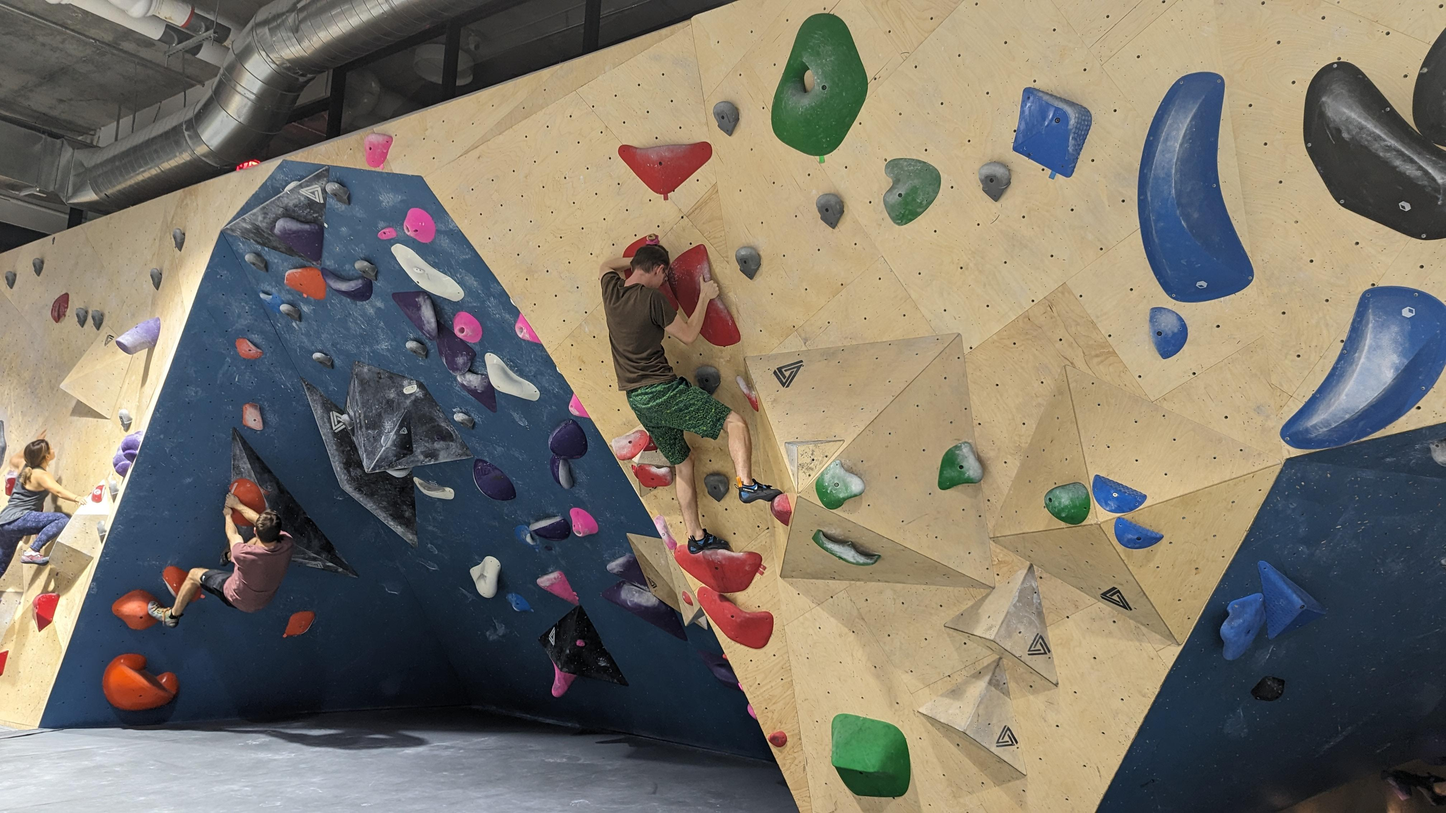black-hold: (1261, 49, 1446, 274), (1275, 263, 1446, 494), (1117, 68, 1258, 310), (758, 4, 890, 167), (999, 83, 1098, 180), (1238, 543, 1329, 641), (90, 642, 185, 731), (599, 572, 700, 643), (831, 713, 911, 798), (685, 584, 779, 653), (1203, 581, 1277, 668), (382, 239, 469, 311), (658, 242, 731, 321), (617, 140, 713, 196), (670, 543, 763, 597), (387, 275, 456, 344), (472, 349, 544, 414), (1412, 27, 1446, 148), (416, 318, 481, 381), (882, 158, 942, 226), (806, 456, 870, 519), (107, 579, 169, 641), (808, 525, 882, 575), (688, 294, 744, 357), (462, 454, 523, 511), (1084, 473, 1149, 523), (696, 639, 747, 701), (542, 414, 598, 470), (930, 439, 986, 492), (269, 214, 328, 263), (455, 364, 504, 422), (1041, 480, 1095, 531), (1107, 515, 1165, 560), (604, 551, 652, 605), (534, 562, 589, 609), (112, 315, 169, 359), (969, 153, 1018, 203), (225, 471, 275, 520), (1148, 305, 1190, 361), (466, 552, 512, 602), (316, 267, 376, 304), (532, 656, 577, 700), (807, 186, 851, 230), (398, 204, 443, 247), (608, 424, 655, 465), (24, 587, 61, 636), (282, 263, 329, 301), (705, 96, 748, 137), (446, 308, 489, 348), (356, 127, 395, 171), (729, 241, 769, 283), (279, 603, 318, 645), (507, 311, 543, 353), (527, 514, 573, 546), (253, 280, 291, 318), (688, 359, 726, 396), (409, 476, 457, 504), (698, 466, 734, 503), (153, 561, 189, 598), (734, 372, 764, 415), (229, 333, 265, 367), (568, 503, 600, 539), (547, 451, 575, 492), (1249, 673, 1286, 704), (651, 513, 680, 552), (511, 521, 544, 555), (767, 492, 796, 530), (620, 230, 652, 264), (321, 178, 357, 208), (117, 426, 144, 464), (502, 588, 534, 620), (562, 392, 592, 426), (107, 444, 137, 478), (637, 464, 673, 488), (351, 257, 383, 283), (239, 400, 264, 433), (243, 248, 271, 277), (48, 290, 71, 325), (226, 507, 254, 535), (402, 337, 431, 361), (765, 726, 791, 752), (277, 301, 306, 323), (113, 406, 137, 432), (451, 410, 478, 431), (146, 266, 167, 292), (339, 412, 359, 439), (0, 468, 18, 497), (310, 351, 337, 370), (1429, 438, 1446, 467), (89, 307, 106, 332), (29, 256, 48, 278), (89, 482, 107, 505), (107, 479, 122, 504), (74, 306, 90, 329), (95, 519, 109, 545), (377, 226, 398, 241), (641, 434, 658, 452), (680, 589, 695, 609), (173, 228, 185, 253), (189, 586, 204, 605), (745, 703, 759, 722), (0, 648, 9, 677), (3, 270, 16, 290), (282, 179, 300, 192), (402, 383, 419, 396), (257, 486, 271, 497), (631, 464, 638, 480), (508, 297, 517, 308), (576, 639, 586, 648), (737, 682, 745, 692), (555, 367, 563, 376), (721, 653, 728, 661), (52, 237, 55, 245)
